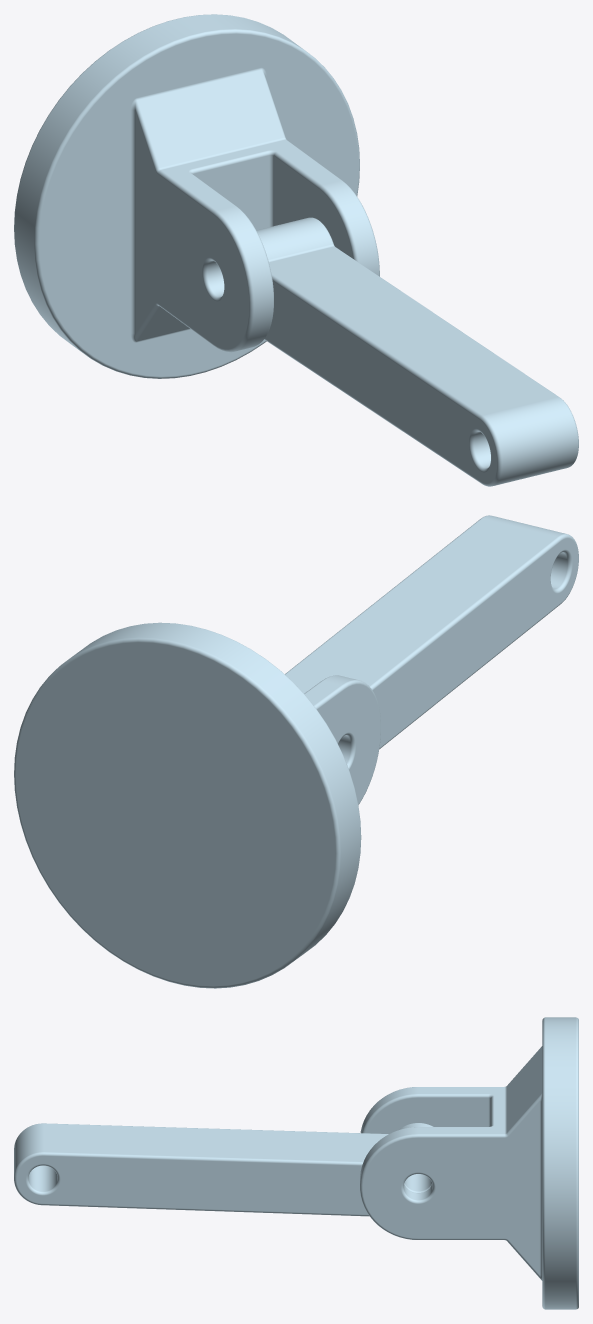
Rendered from OneJointArmAssembly.gltf.
The picture shows the model from 3 angles, top to bottom: view 1: azimuth 30°, elevation 25°; view 2: azimuth 150°, elevation 25°; view 3: azimuth 270°, elevation 25°; orthographic projection. The views are drawn at different scales.
Parts seen in each view (by area): view 1: Part 1 (×2); view 2: Part 1 (×2); view 3: Part 1 (×2).
Part boxes in pixels (box(x1,y1,x2,y2)): Part 1 (×2): box(14, 14, 578, 486); Part 1 (×2): box(14, 515, 578, 988); Part 1 (×2): box(14, 1017, 578, 1309).
Size of the model in its own units: 0.1 by 0.0999 by 0.1935.
